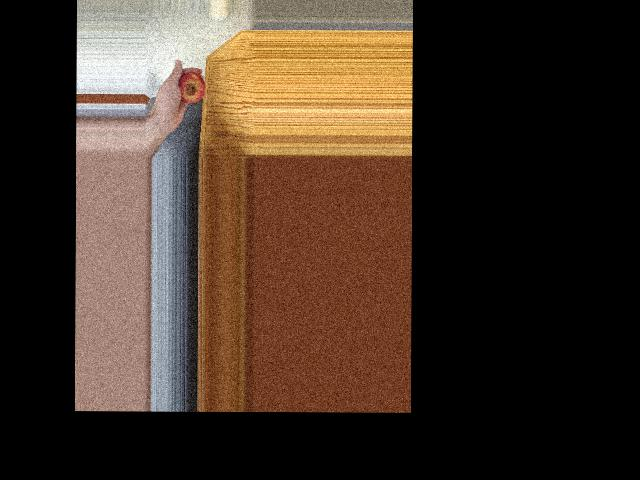apple: (176, 71, 206, 106)
